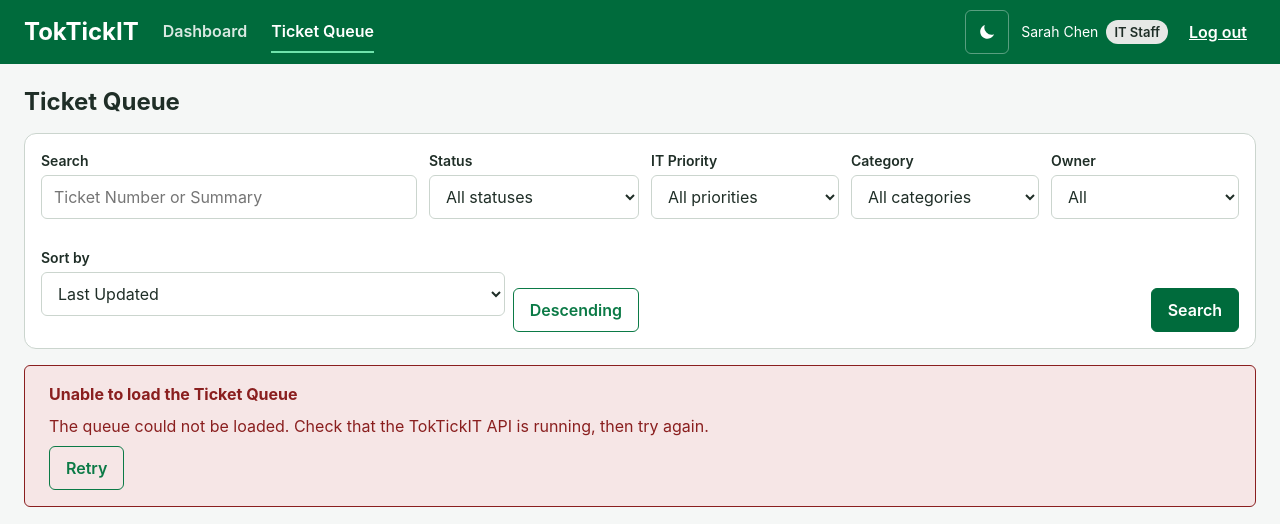
Test: UI-13 failure, forbidden and loading (AC-44, AC-14) › renders a safe failure with a Retry that refetches
This screenshot has width=1280, height=524.
Check: the heading "Ticket Queue" is shown, box x1=24 y1=88 x2=180 y2=117
Check: the message shows "Unable to load the Ticket Queue", box x1=49 y1=384 x2=298 y2=404
Click the button "Retry". click: (87, 468)
box: x1=49 y1=446 x2=124 y2=490
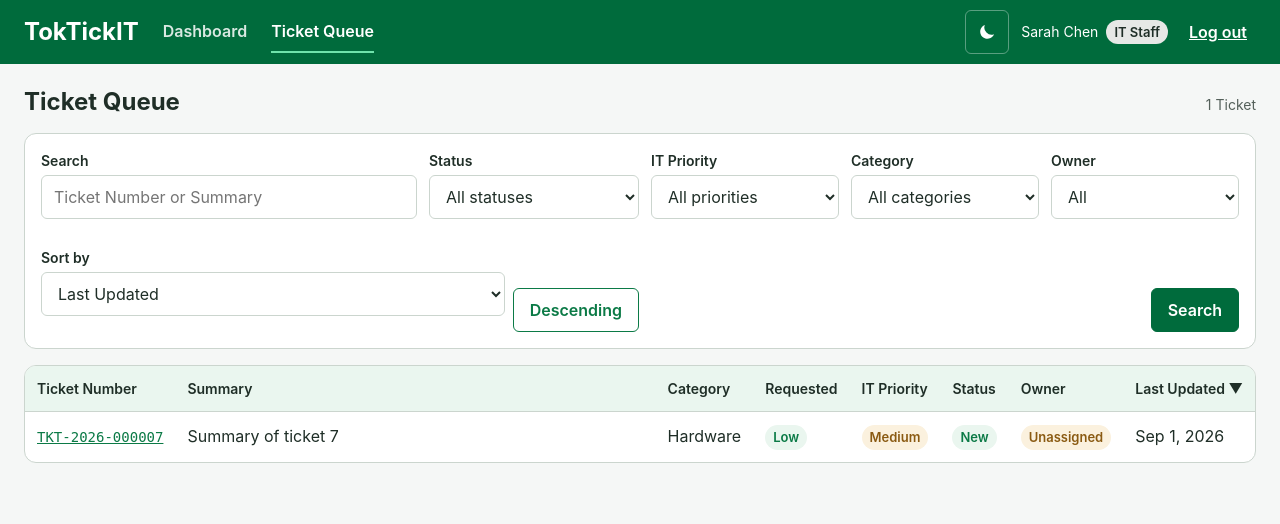
Check: the link "TKT-2026-000007" is shown, box x1=37 y1=429 x2=163 y2=445
Check: the message is gone
